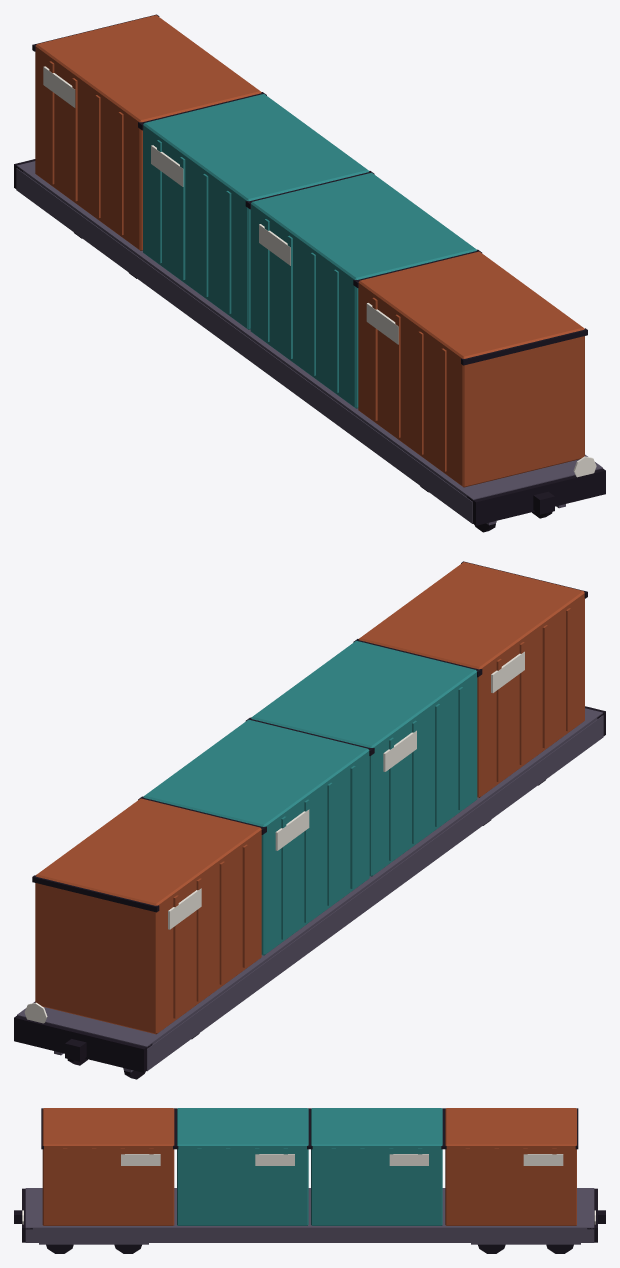
File: train_wagon.glb
3 views of the same model, one above another, from view 1: azimuth 30°, elevation 25°; view 2: azimuth 150°, elevation 25°; view 3: azimuth 270°, elevation 25° (orthographic). The views are drawn at different scales.
Visible parts, largest first — view 1: train_wagon; view 2: train_wagon; view 3: train_wagon.
Boxes of the visible parts, left/top/right/bottom form: train_wagon: left=14, top=14, right=605, bottom=532; train_wagon: left=14, top=561, right=605, bottom=1079; train_wagon: left=14, top=1108, right=605, bottom=1253.
Size of the model in its own units: 2.62 by 3.62 by 16.45.
